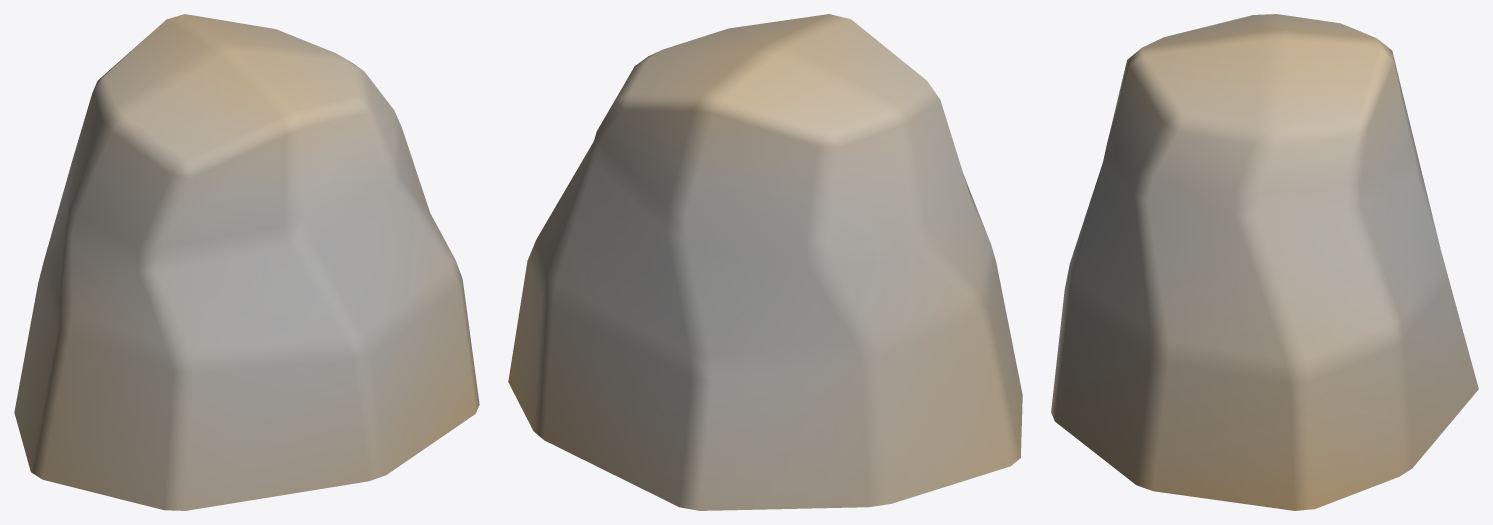
File: stone_smallC__v2.fbx
3 views of the same model, side by side, from view 1: azimuth 30°, elevation 25°; view 2: azimuth 150°, elevation 25°; view 3: azimuth 270°, elevation 25° (orthographic). The views are drawn at different scales.
Visible parts, largest first — view 1: stone_smallC; view 2: stone_smallC; view 3: stone_smallC.
Boxes of the visible parts, box(x1,y1,x2,y2) form: stone_smallC: box(14, 14, 479, 510); stone_smallC: box(508, 14, 1022, 510); stone_smallC: box(1051, 14, 1478, 510).
Bounding box in the file's own units: 7.66 × 5.9 × 6.34.
